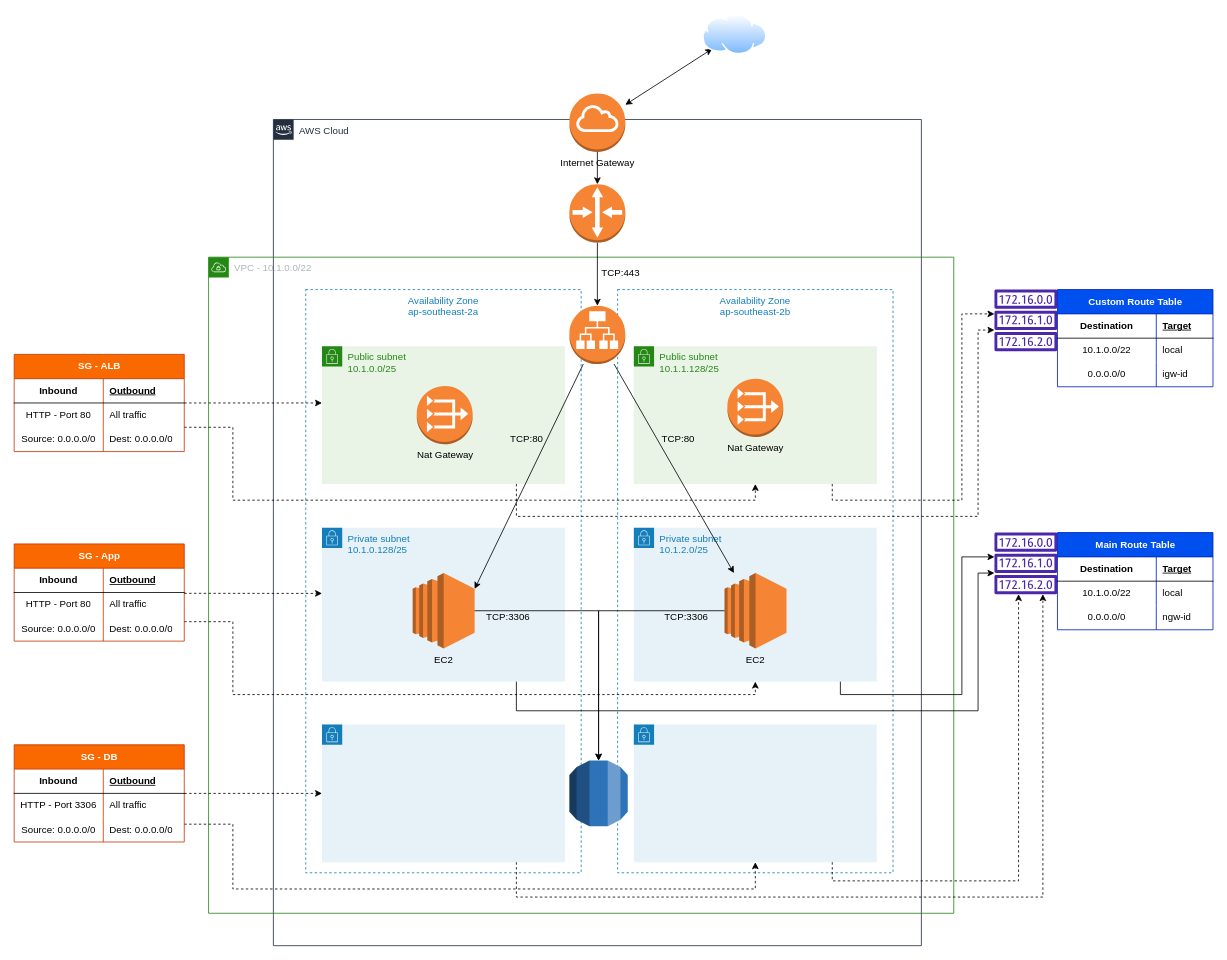
Some shapes in this 1227 by 960 pixel diagram are drawn without their labels. Here are the shapes that lost their labels. From the top down, the centre of each, then its label:
At point 734,34: "Internet".
At point 597,213: "Router".
At point 597,334: "ALB".
At point 443,793: "Private subnet 10.1.1.0/25".
At point 598,793: "RDS".
At point 755,793: "Private subnet 10.1.2.128/25".
